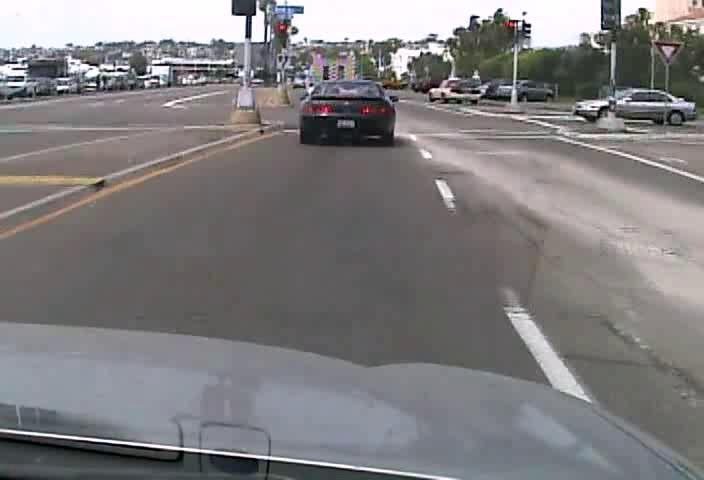yield: (651, 38, 684, 66)
